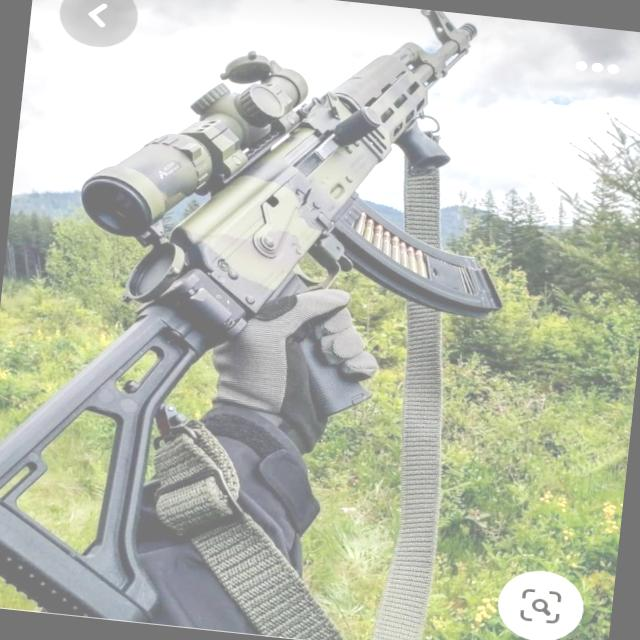m16: (262, 9, 554, 331)
